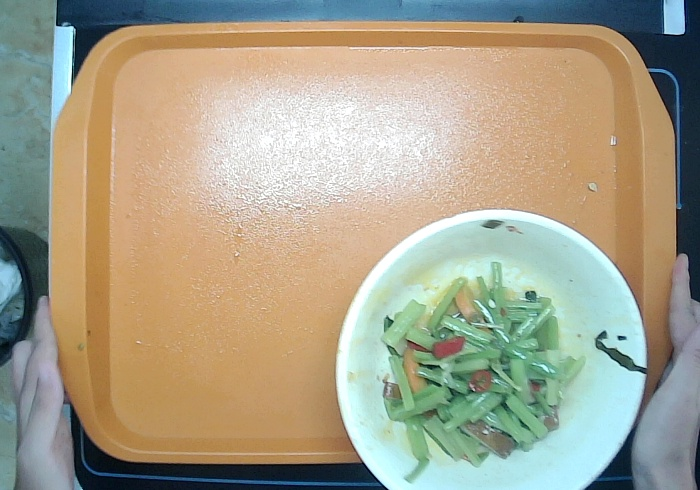ZNLD-Da_Tang_Wan: (332, 206, 649, 490)
